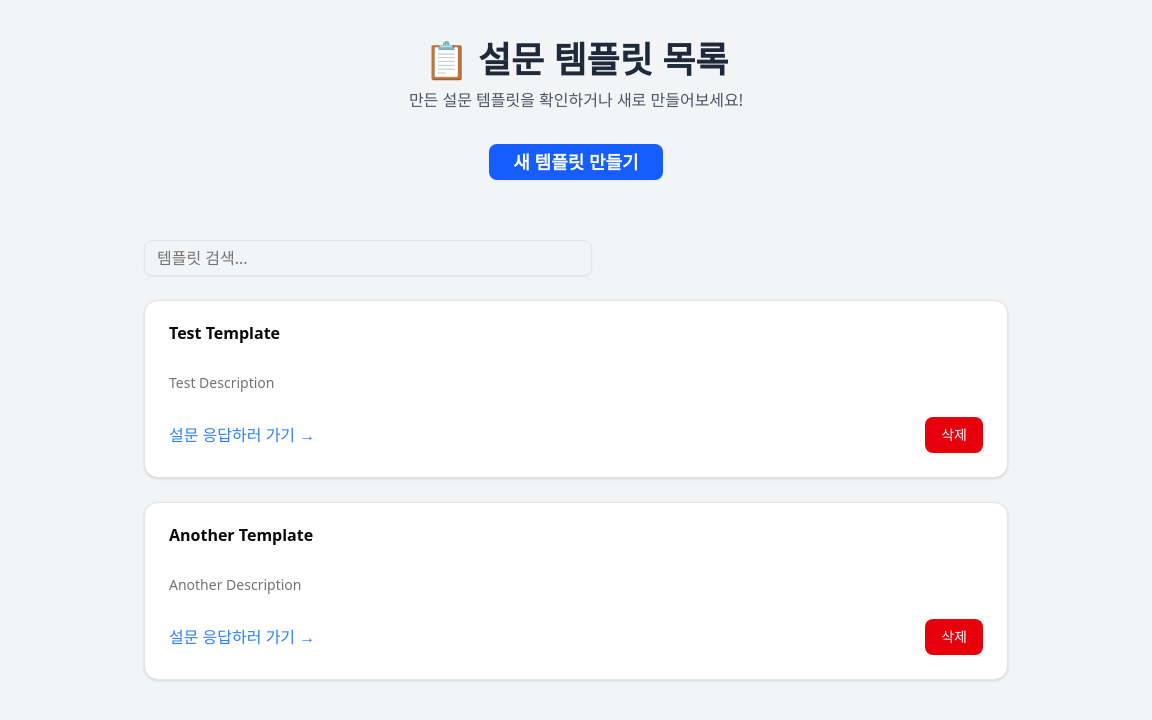
Test: Home Component › opens delete dialog and deletes template
The width and height of the screenshot is (1152, 720).
Expected: the text "Test Template" is shown, [169,322,280,344]
Click the button with test id "delete-button-1" at {"x": 954, "y": 435}, box [925,417,983,453]
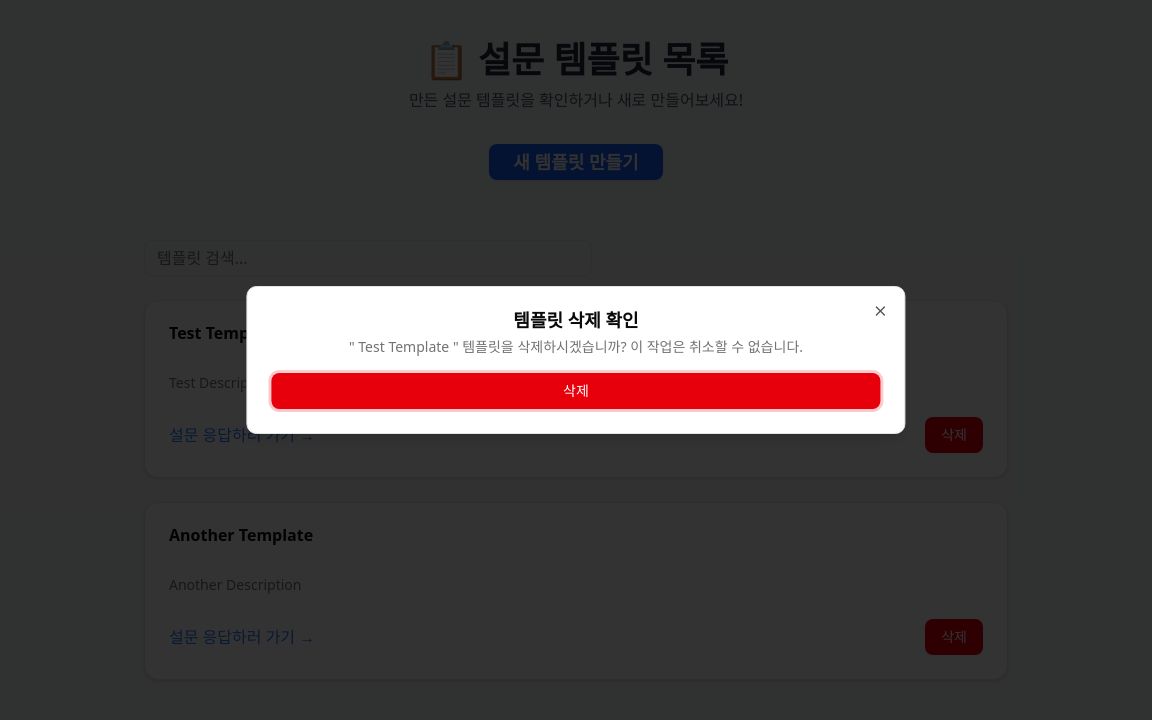
Expected: the text "\" Test Template \" 템플릿을 삭제하시겠습니까? 이 작업은 취소할 수 없습니다." is shown, [349,337,803,356]
Click the button with test id "confirm-delete-button-1" at {"x": 576, "y": 391}, box [271,373,881,409]
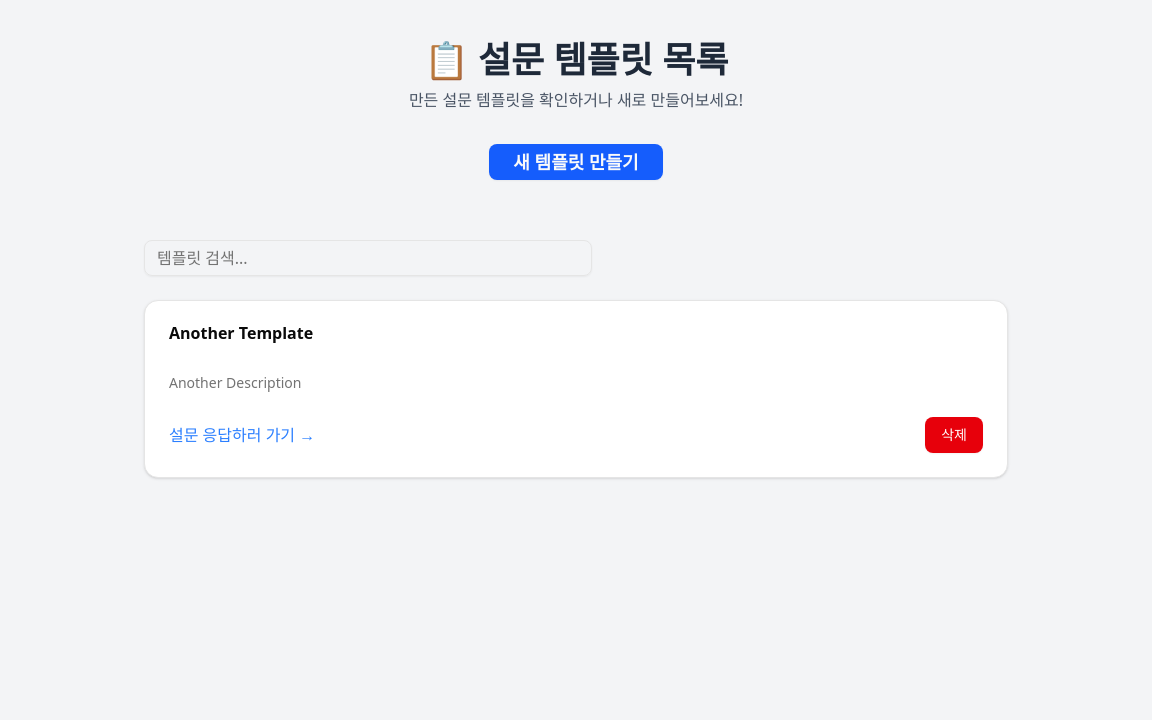
Expected: the text "Test Template" is gone
